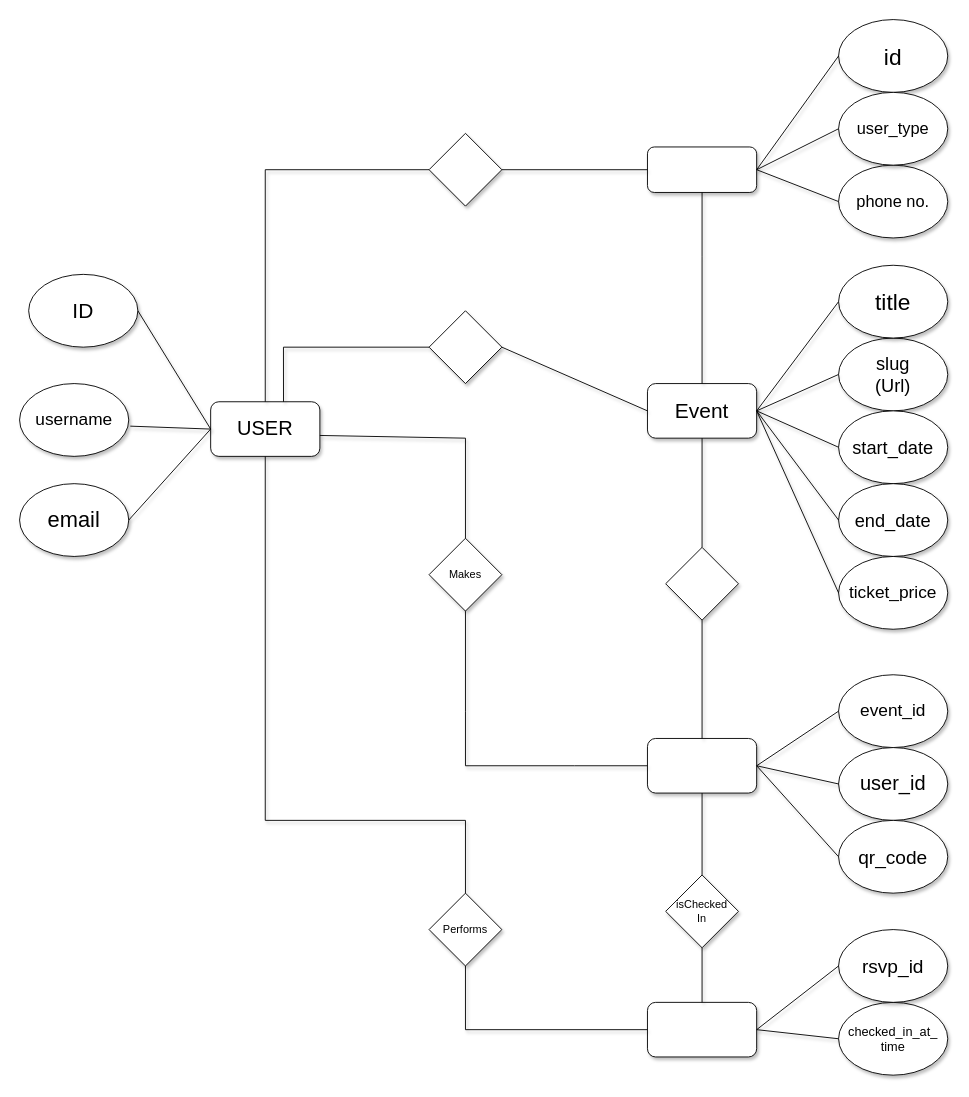
The diagram is 969 pixels wide and 1097 high, and some of its shapes have lost their labels. The shapes that lost their labels are listed below. From the top down, each one's centre as x and y in pixels, then its label:
At point 466,170: "Has".
At point 702,170: "UserProfile".
At point 466,348: "Organizes".
At point 702,585: "HasRSVP".
At point 702,766: "RSVP".
At point 702,1030: "CheckIn".
